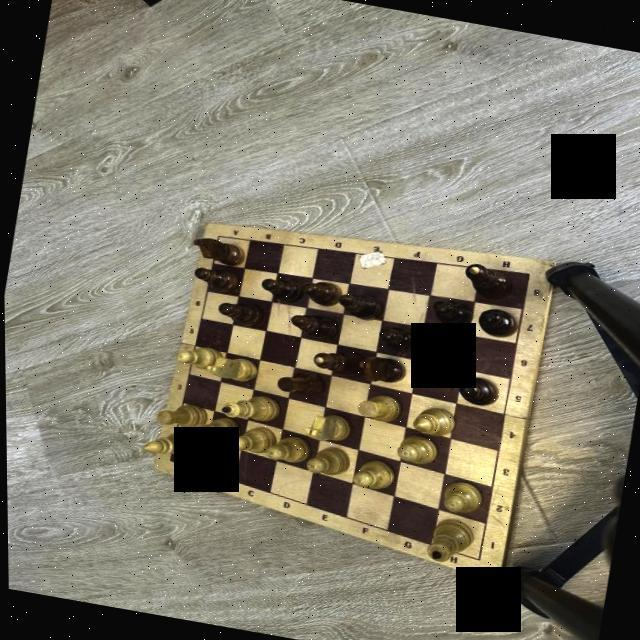chess-table-corners: (520, 267, 535, 279), (164, 455, 174, 463), (472, 554, 482, 562), (213, 232, 221, 239)
